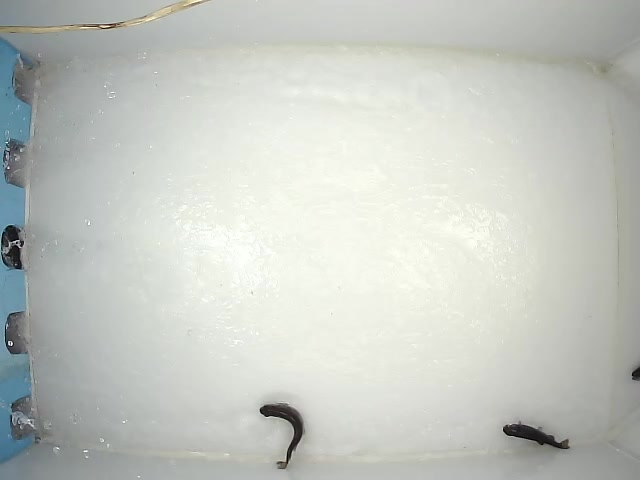fish: (258, 401, 306, 472), (500, 420, 571, 451)
